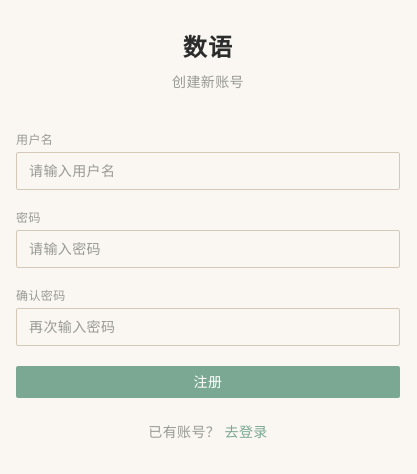
RegisterPage › shows generic error message when registration fails without message
The image size is (417, 474).
Type "user" into the field with placeholder "请输入用户名".
click(208, 171); type("user")  # box [16,152,400,190]
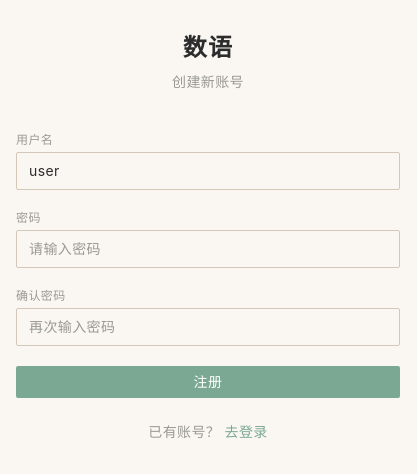
Type "pass123" into the password field with placeholder "请输入密码".
click(208, 249); type("pass123")  # box [16,230,400,268]
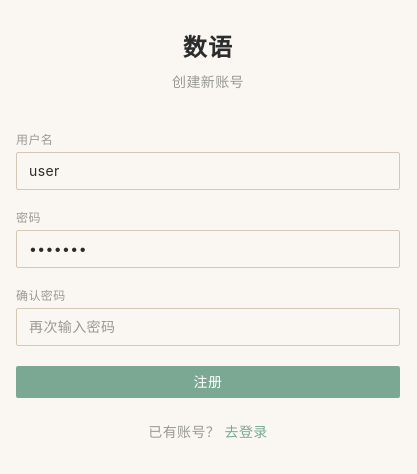
Type "pass123" into the password field with placeholder "再次输入密码".
click(208, 327); type("pass123")  # box [16,308,400,346]
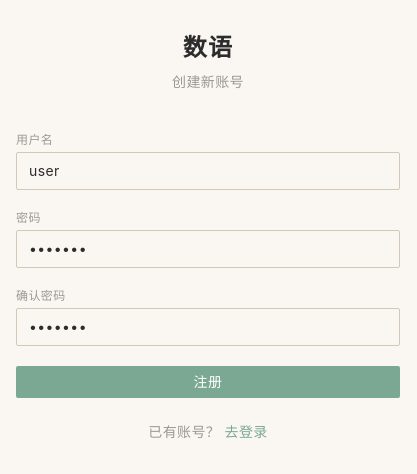
Click the button "注册".
click(208, 382)  # box [16,366,400,398]
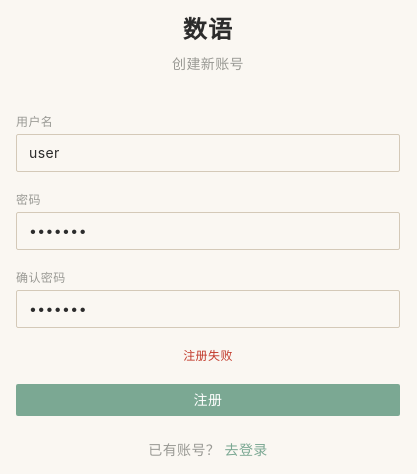
Check: the text "注册失败" is shown, box [183,348,233,363]
